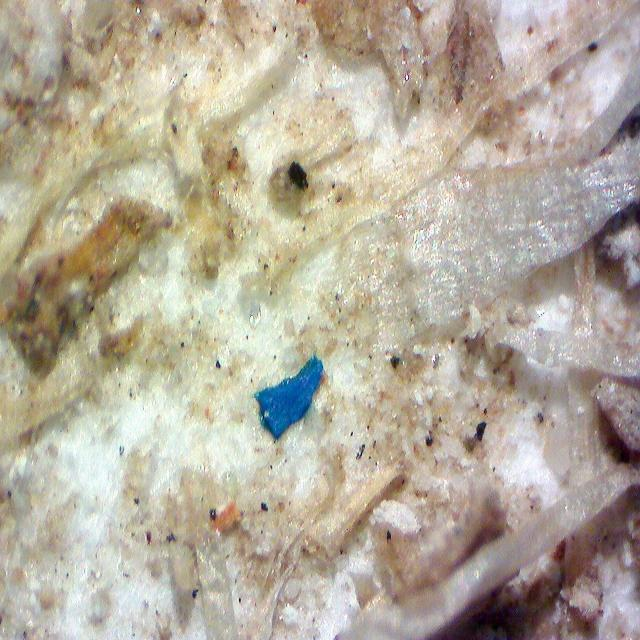microplastic: (255, 356, 326, 441)
